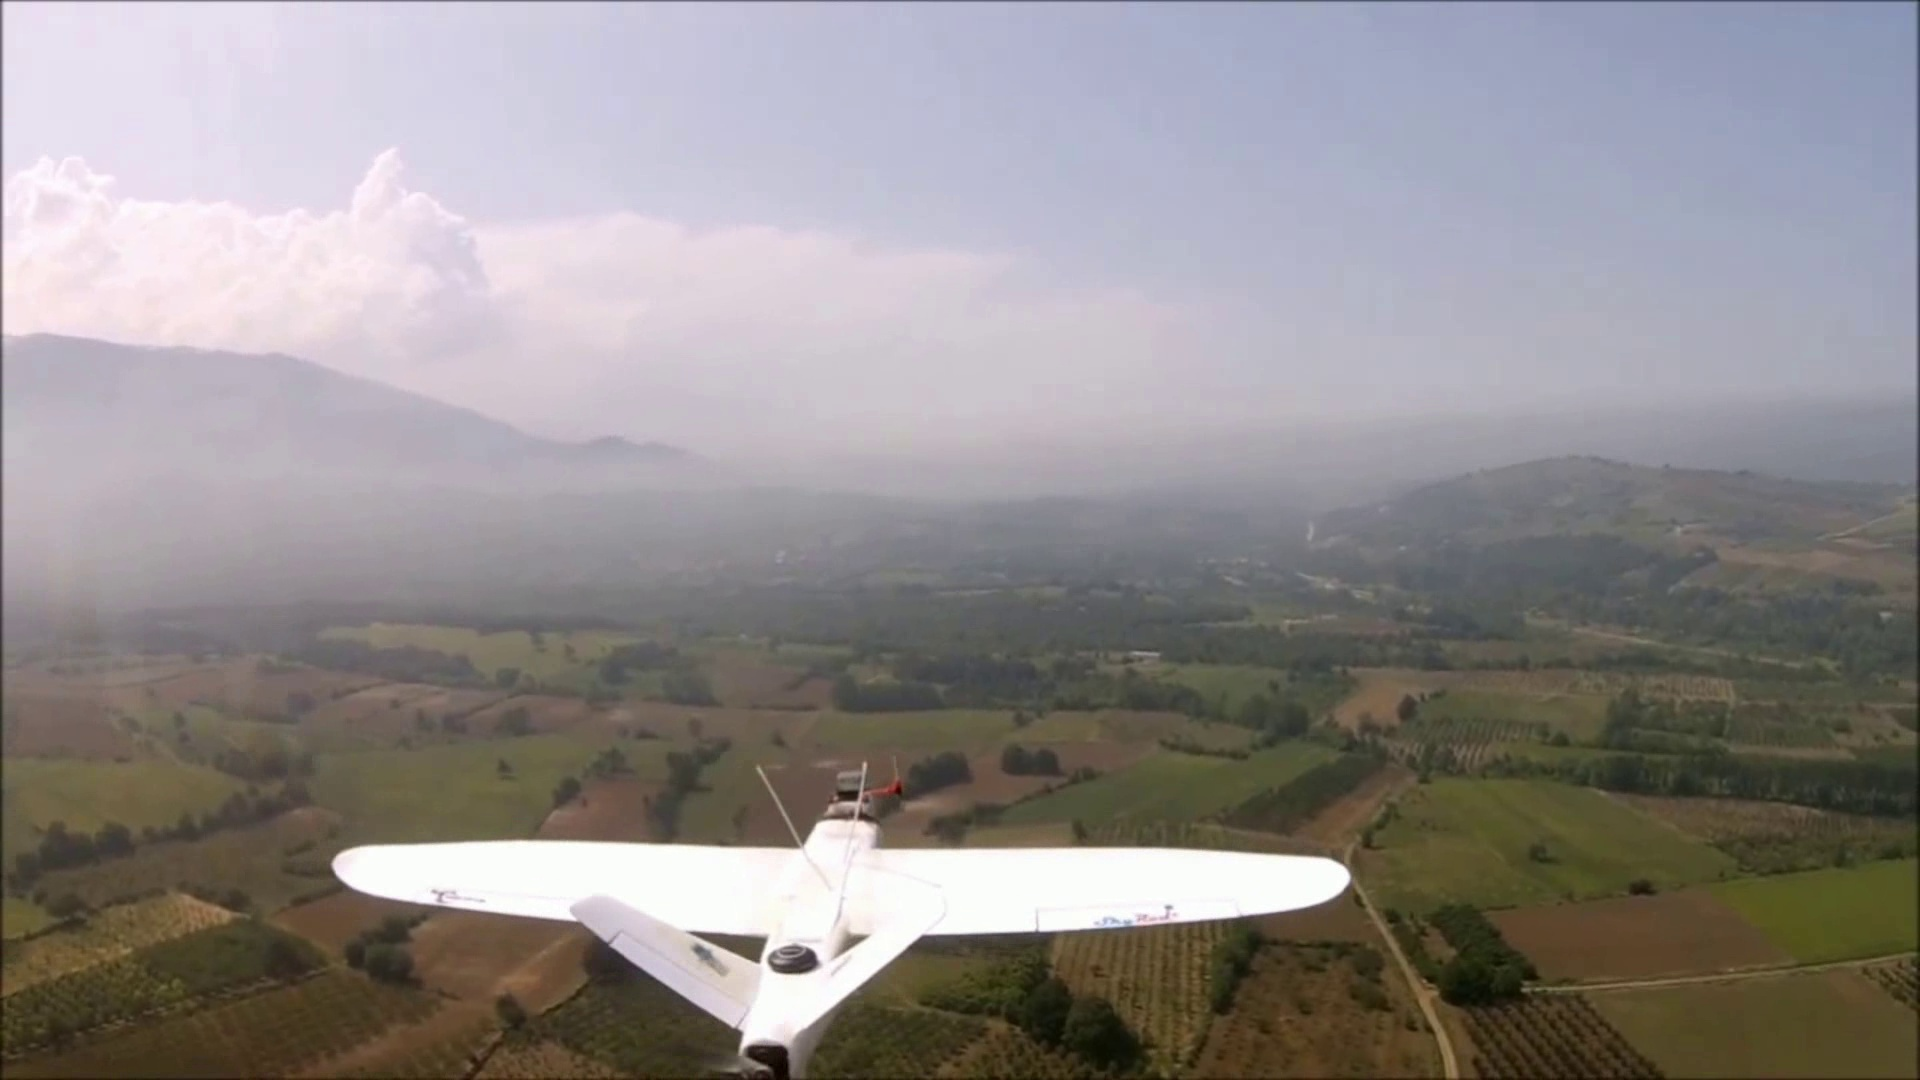airplane: (330, 762, 1356, 1072)
